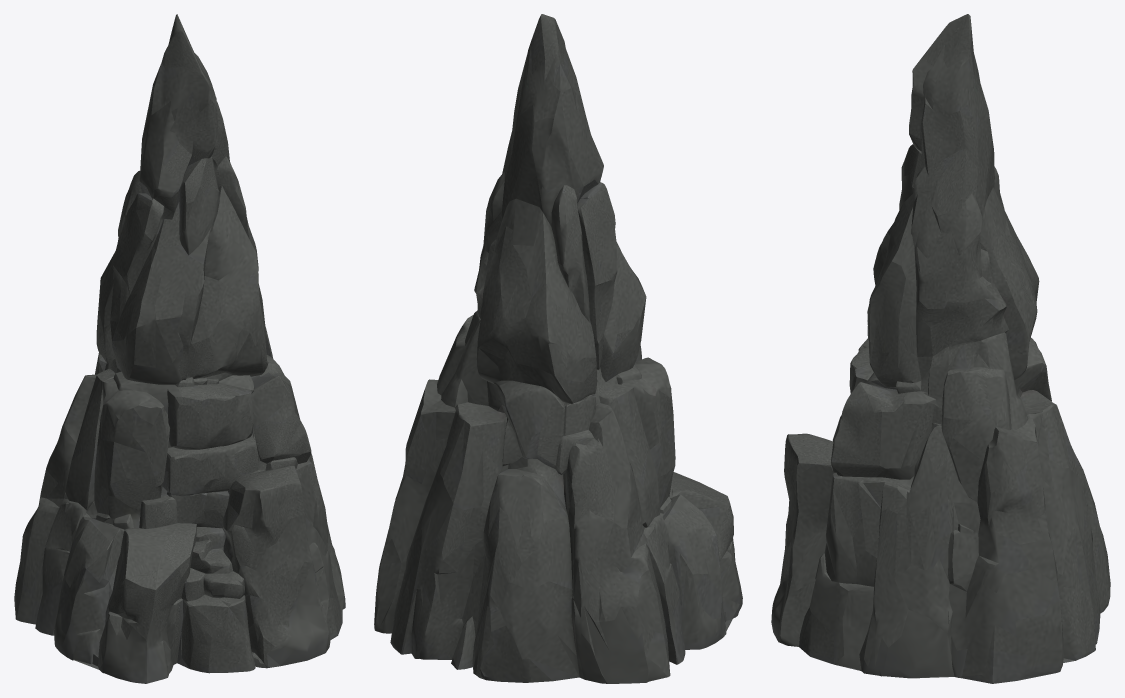
File: p_rock2.glb
3 views of the same model, side by side, from view 1: azimuth 30°, elevation 25°; view 2: azimuth 150°, elevation 25°; view 3: azimuth 270°, elevation 25° (orthographic). The views are drawn at different scales.
Parts seen in each view (by area): view 1: mesh_0; view 2: mesh_0; view 3: mesh_0.
Part boxes in pixels (bbox=[...]): mesh_0: bbox=[14, 14, 345, 683]; mesh_0: bbox=[374, 14, 742, 683]; mesh_0: bbox=[771, 14, 1110, 683].
Bounding box in the file's own units: 0.9567 × 1.9 × 0.9731.
1 material, 1 textured.
